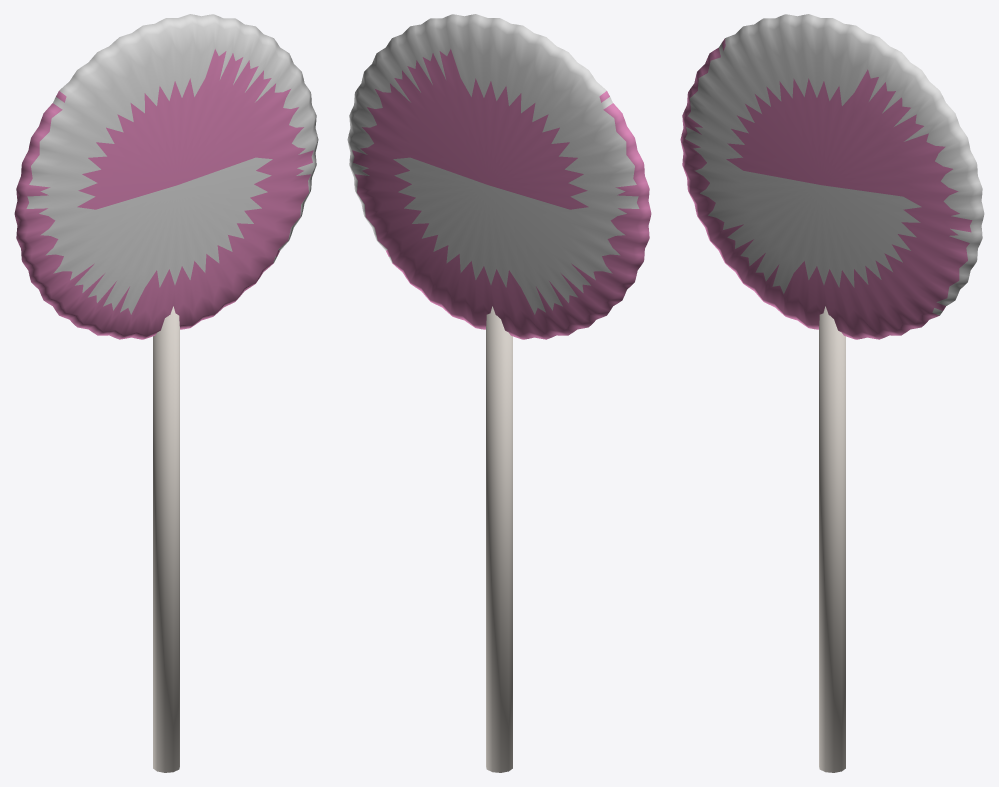
File: lollipop.glb
3 renders of one model, left to right at view 1: azimuth 30°, elevation 25°; view 2: azimuth 150°, elevation 25°; view 3: azimuth 330°, elevation 25°, orthographic.
Visible parts, largest first — view 1: Lollipop; view 2: Lollipop; view 3: Lollipop.
Part boxes in pixels (left/top/right/bottom): Lollipop: left=14, top=14, right=318, bottom=772; Lollipop: left=347, top=14, right=651, bottom=772; Lollipop: left=680, top=14, right=984, bottom=772.
Size of the model in its own units: 4.53 by 10.66 by 0.5807.
